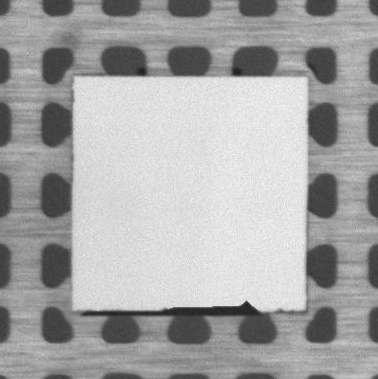DIE_BROKEN: (81, 297, 266, 315)
